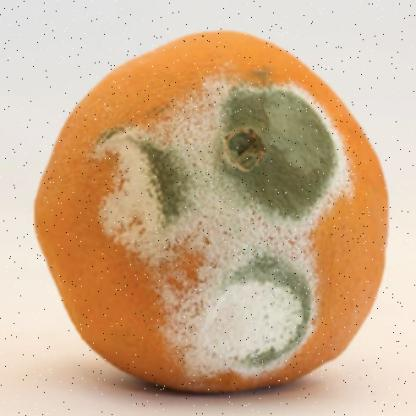rotten: (37, 31, 390, 392)
